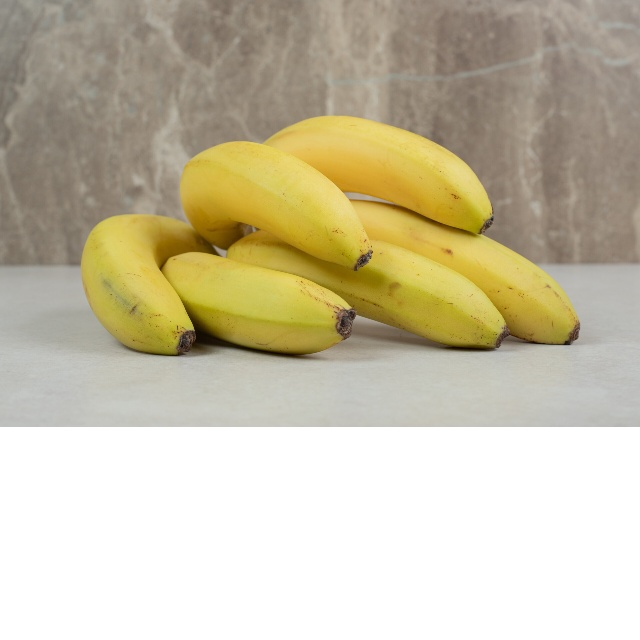chuoi: (344, 198, 581, 346), (230, 229, 511, 350), (257, 116, 493, 235), (180, 140, 374, 272), (163, 249, 353, 357), (78, 213, 196, 356)
